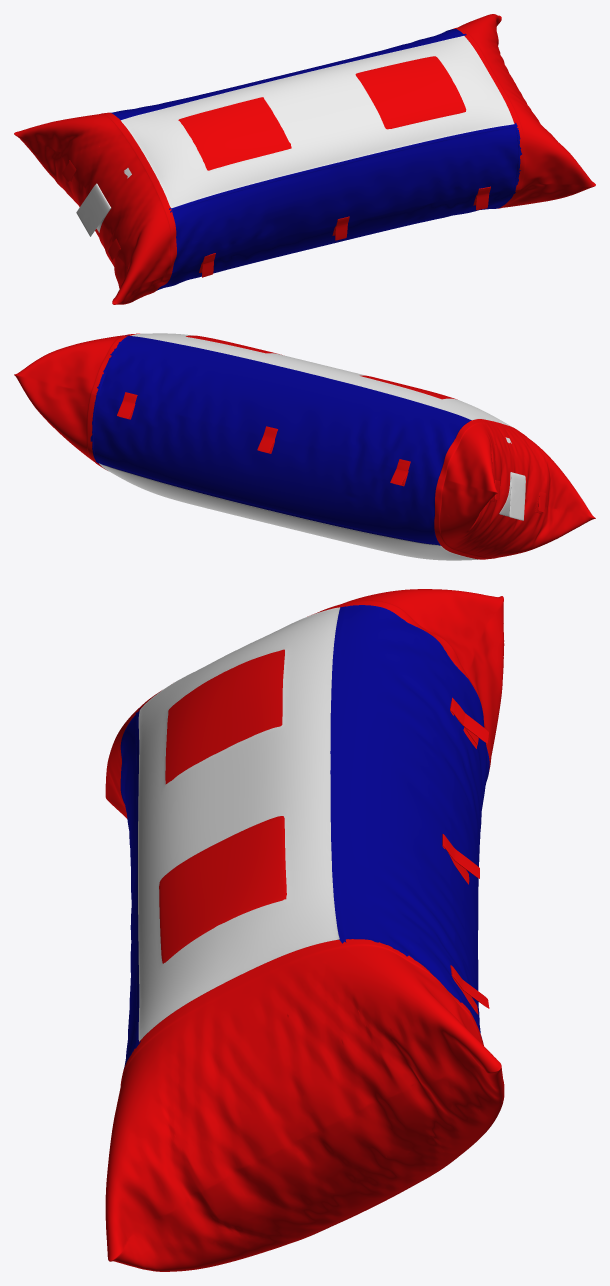
Rendered from weekender.glb.
The picture shows the model from 3 angles, top to bottom: view 1: azimuth 30°, elevation 25°; view 2: azimuth 150°, elevation 25°; view 3: azimuth 270°, elevation 25°; orthographic projection. The views are drawn at different scales.
Visible parts, largest first — view 1: Plane, Plane.008, Plane.004; view 2: Plane, Plane.004, Plane.008; view 3: Plane, Plane.004.
Part boxes in pixels (x1,y1,x2,y2): Plane: (14, 14, 595, 304); Plane.008: (76, 183, 111, 236); Plane.004: (199, 186, 490, 277); Plane: (14, 333, 595, 560); Plane.004: (117, 392, 410, 486); Plane.008: (499, 472, 525, 520); Plane: (105, 589, 504, 1271); Plane.004: (442, 697, 489, 1014).
Size of the model in its own units: 3.01 by 0.9586 by 1.07.
